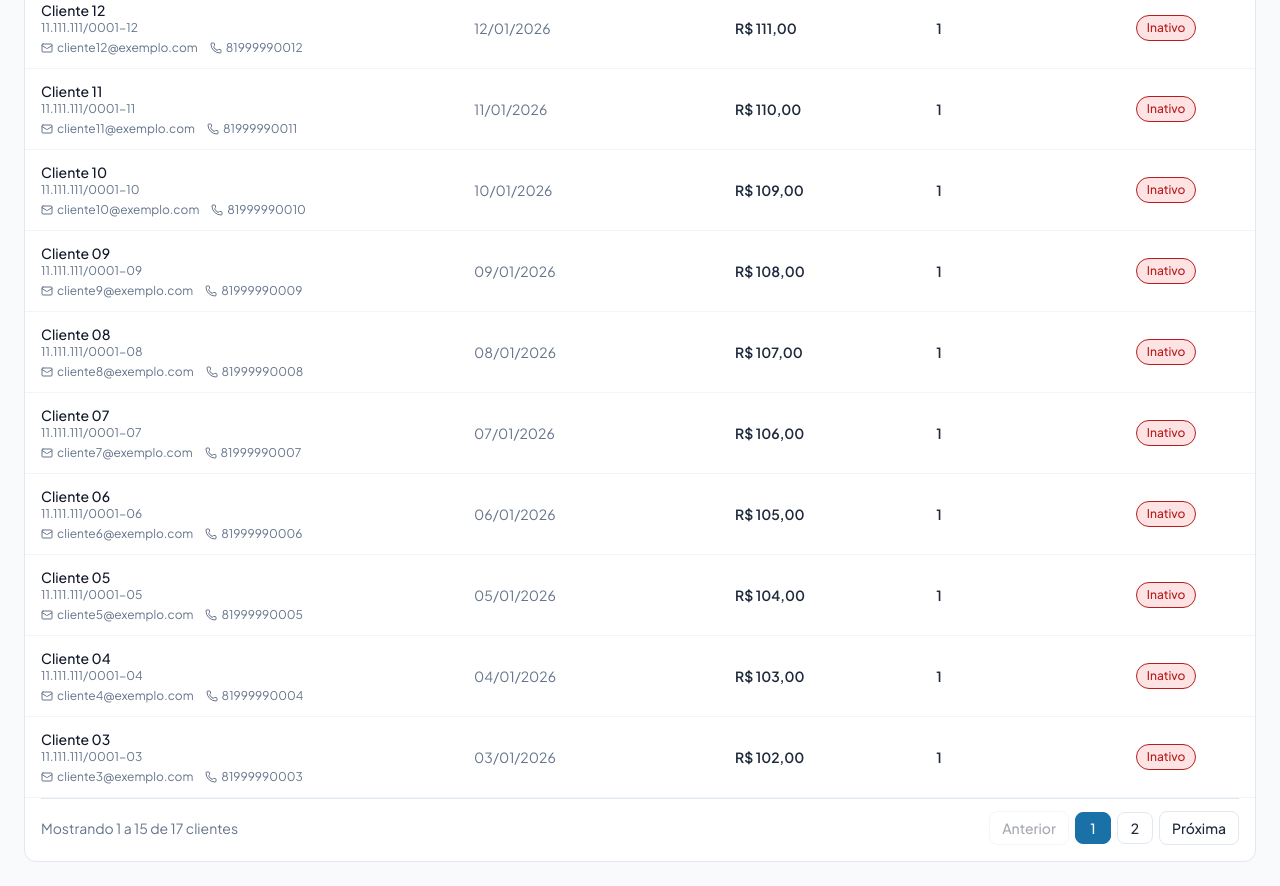
paginacao em Clientes › filtrar volta para a primeira pagina
(page scrolled)
Step 1. Click the button "Próxima" → click(1199, 828), box [1159,811,1239,845]
(page scrolled)
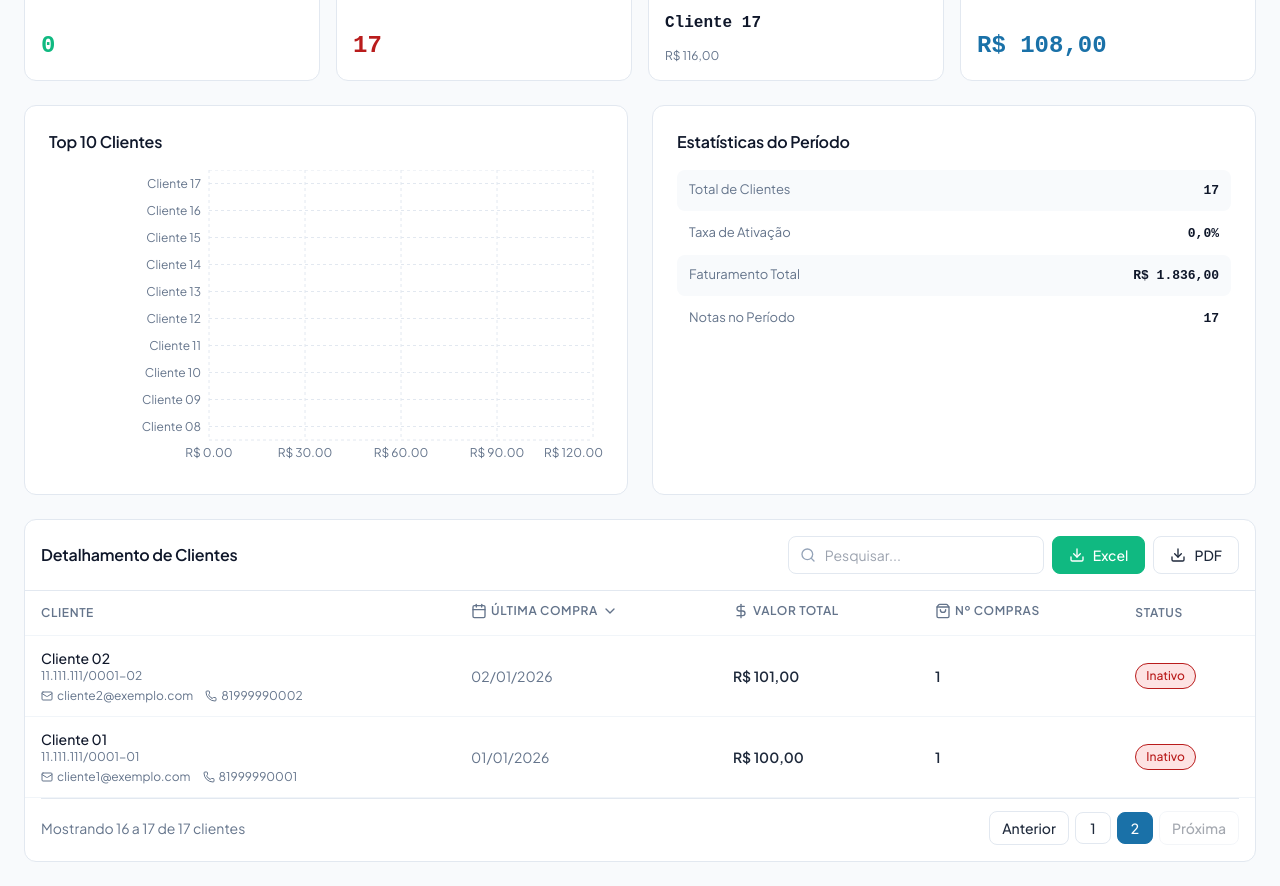
Check: the text "Mostrando 16 a 17 de 17 clientes" is shown, box [41,818,245,838]
Step 2. Type "Cliente 0" into the field with placeholder "Pesquisar..." → (916, 555), box [788,536,1044,574]
(page scrolled)
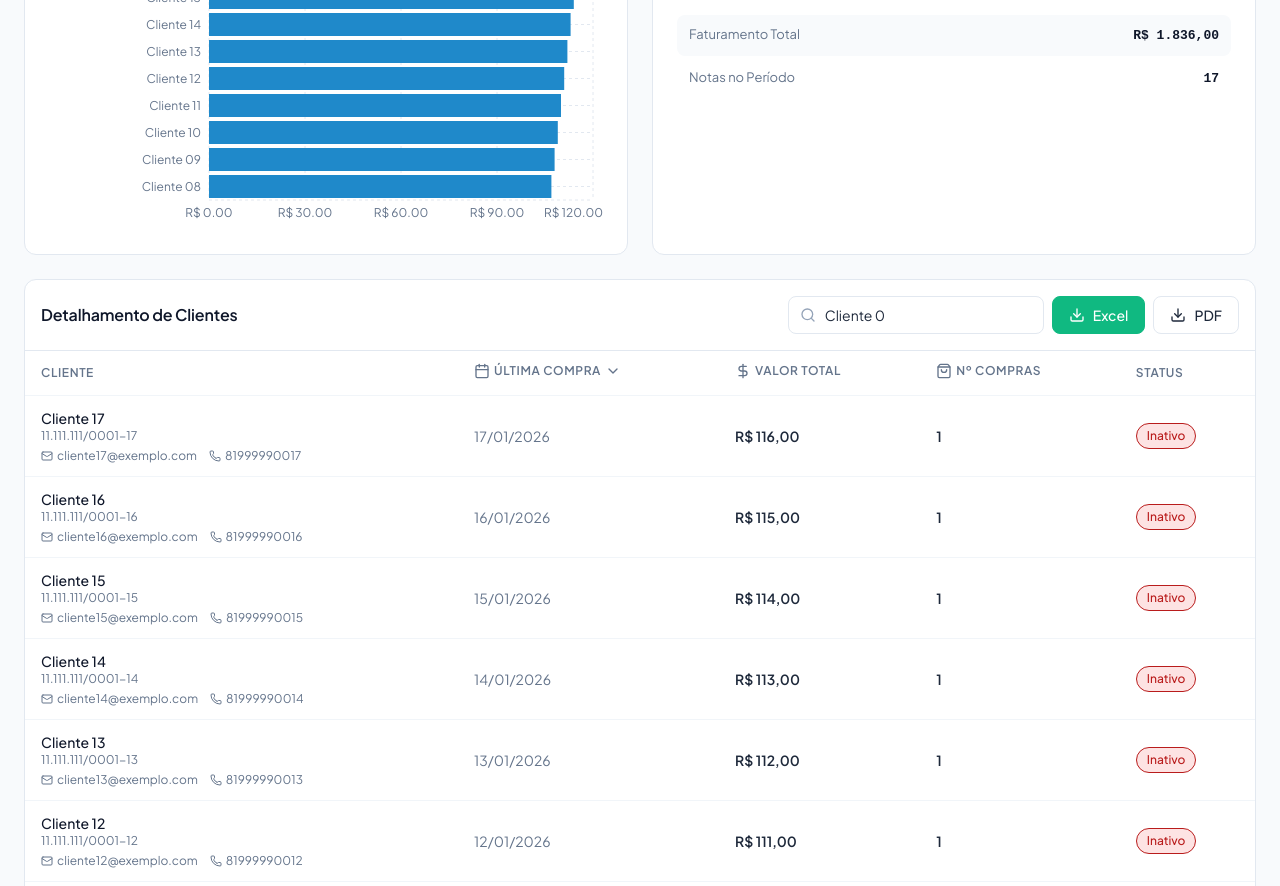
Check: the row that starts with "Cliente 17" is shown, box [25,396,1255,476]
